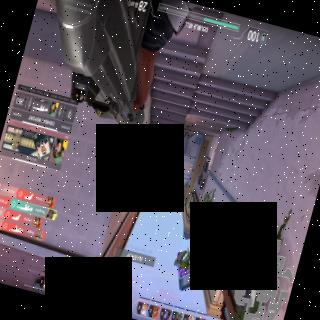ENEMY-BODY: (157, 135, 168, 160)
